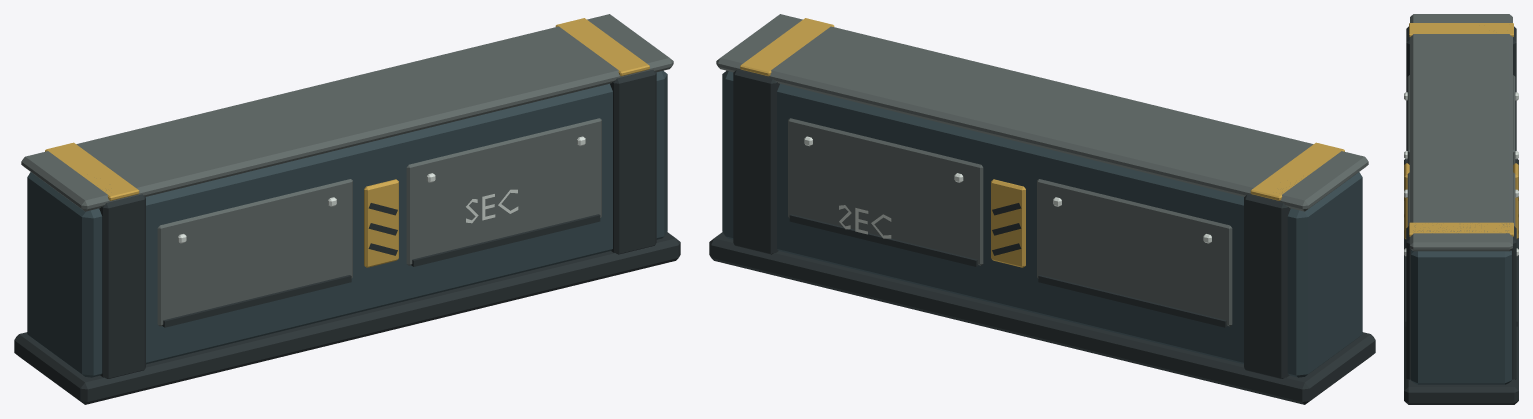
Rendered from security_barrier.glb.
3 renders of one model, left to right at view 1: azimuth 30°, elevation 25°; view 2: azimuth 150°, elevation 25°; view 3: azimuth 270°, elevation 25°, orthographic. The views are drawn at different scales.
Parts seen in each view (by area): view 1: SecurityBarrier; view 2: SecurityBarrier; view 3: SecurityBarrier.
Part boxes in pixels (bbox=[...]): SecurityBarrier: bbox=[14, 14, 680, 404]; SecurityBarrier: bbox=[709, 14, 1375, 404]; SecurityBarrier: bbox=[1404, 14, 1518, 404].
Size of the model in its own units: 2.8 by 0.897 by 0.579.
